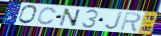3: (80, 9, 100, 30)
C: (36, 7, 58, 26)
J: (103, 11, 124, 30)
N: (59, 8, 81, 28)
O: (17, 5, 38, 25)
R: (119, 12, 143, 33)
